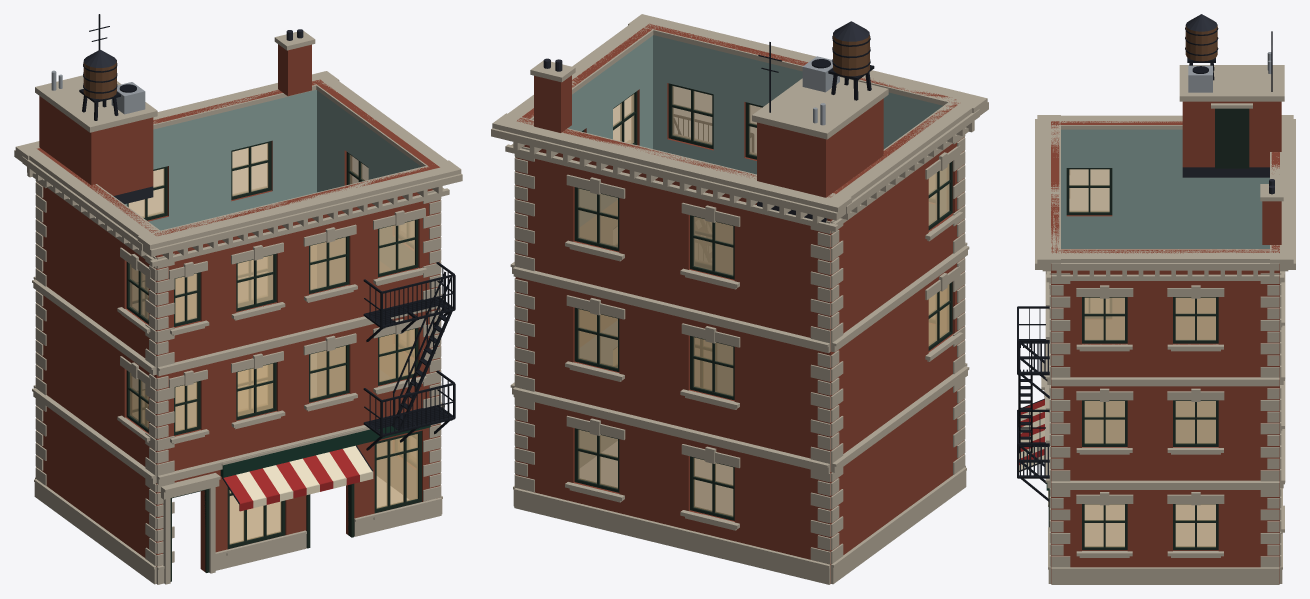
The model's file is haz.glb.
The picture shows the model from 3 angles, left to right: view 1: azimuth 30°, elevation 25°; view 2: azimuth 150°, elevation 25°; view 3: azimuth 270°, elevation 25°; orthographic projection. The views are drawn at different scales.
Parts seen in each view (by area): view 1: HZ_wall_f2_front, HZ_wall_f1_front, HZ_wall_f0_front, HZ_wall_f2_back, HZ_wall_f2_left, HZ_roof, HZ_wall_f0_left, HZ_wall_f1_left, HZ_wall_f2_right, HZ_fireescape, HZ_wall_f0_right, HZ_wall_f1_back (+2 smaller); view 2: HZ_wall_f2_back, HZ_wall_f0_back, HZ_wall_f1_back, HZ_wall_f2_front, HZ_wall_f2_left, HZ_roof, HZ_wall_f0_left, HZ_wall_f1_left, HZ_wall_f2_right, HZ_wall_f1_front, HZ_wall_f0_right, HZ_wall_f1_right (+1 smaller); view 3: HZ_wall_f2_right, HZ_wall_f0_right, HZ_wall_f1_right, HZ_wall_f2_left, HZ_roof, HZ_wall_f2_front, HZ_fireescape, HZ_wall_f2_back, HZ_wall_f0_left, HZ_wall_f1_left, HZ_wall_f0_front, HZ_wall_f0_back (+2 smaller).
Boxes of the visible parts, left/top/right/bottom form: HZ_wall_f2_front: left=137, top=160, right=462, bottom=367; HZ_wall_f1_front: left=156, top=306, right=440, bottom=475; HZ_wall_f0_front: left=156, top=423, right=441, bottom=584; HZ_wall_f2_back: left=14, top=71, right=339, bottom=268; HZ_wall_f2_left: left=22, top=148, right=163, bottom=366; HZ_roof: left=35, top=14, right=315, bottom=204; HZ_wall_f0_left: left=32, top=388, right=156, bottom=584; HZ_wall_f1_left: left=32, top=279, right=156, bottom=475; HZ_wall_f2_right: left=313, top=76, right=447, bottom=295; HZ_fireescape: left=363, top=262, right=455, bottom=450; HZ_wall_f0_right: left=317, top=346, right=444, bottom=513; HZ_wall_f1_back: left=33, top=245, right=316, bottom=379; HZ_wall_f2_back: left=491, top=113, right=851, bottom=343; HZ_wall_f0_back: left=512, top=387, right=835, bottom=584; HZ_wall_f1_back: left=512, top=266, right=834, bottom=463; HZ_wall_f2_front: left=628, top=14, right=988, bottom=233; HZ_wall_f2_left: left=829, top=98, right=979, bottom=342; HZ_roof: left=530, top=21, right=888, bottom=222; HZ_wall_f0_left: left=831, top=366, right=969, bottom=584; HZ_wall_f1_left: left=831, top=245, right=969, bottom=463; HZ_wall_f2_right: left=508, top=21, right=656, bottom=265; HZ_wall_f1_front: left=695, top=217, right=967, bottom=353; HZ_wall_f0_right: left=510, top=321, right=617, bottom=506; HZ_wall_f1_right: left=510, top=200, right=617, bottom=385; HZ_wall_f2_right: left=1051, top=249, right=1279, bottom=377; HZ_wall_f0_right: left=1051, top=480, right=1279, bottom=584; HZ_wall_f1_right: left=1051, top=377, right=1279, bottom=481; HZ_wall_f2_left: left=1051, top=115, right=1269, bottom=248; HZ_roof: left=1179, top=14, right=1284, bottom=244; HZ_wall_f2_front: left=1035, top=115, right=1060, bottom=377; HZ_fireescape: left=1017, top=306, right=1050, bottom=502; HZ_wall_f2_back: left=1270, top=115, right=1295, bottom=377; HZ_wall_f0_left: left=1085, top=401, right=1215, bottom=442; HZ_wall_f1_left: left=1085, top=298, right=1215, bottom=338; HZ_wall_f0_front: left=1019, top=362, right=1058, bottom=583; HZ_wall_f0_back: left=1272, top=379, right=1285, bottom=583.
Size of the model in its own units: 9.04 by 13.02 by 7.34.
